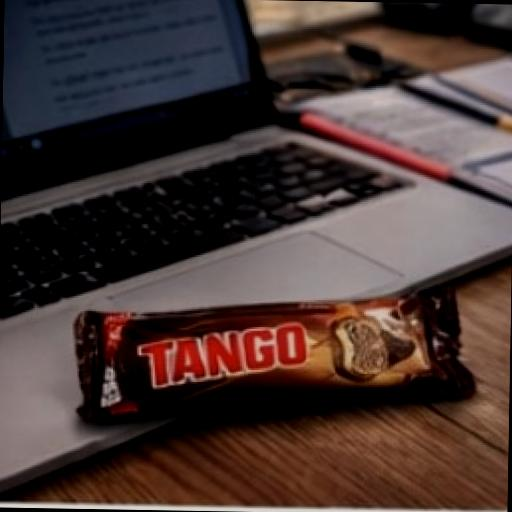tango: (46, 256, 494, 472)
